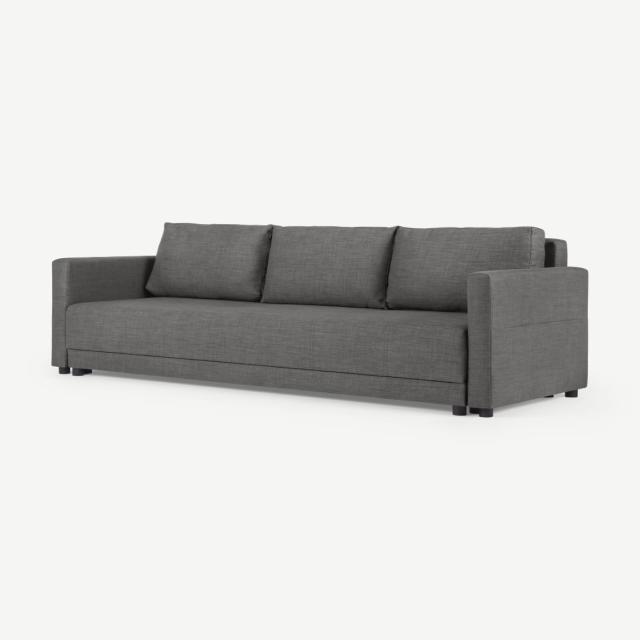back_cushion: (145, 223, 565, 311)
left_arm: (468, 267, 587, 415)
legs: (452, 405, 493, 417), (71, 368, 91, 376), (565, 390, 577, 397), (59, 367, 70, 374)
right_arm: (51, 256, 154, 371)
seat_cushion: (63, 297, 466, 391)
stallion-sofa: (51, 224, 588, 417)
